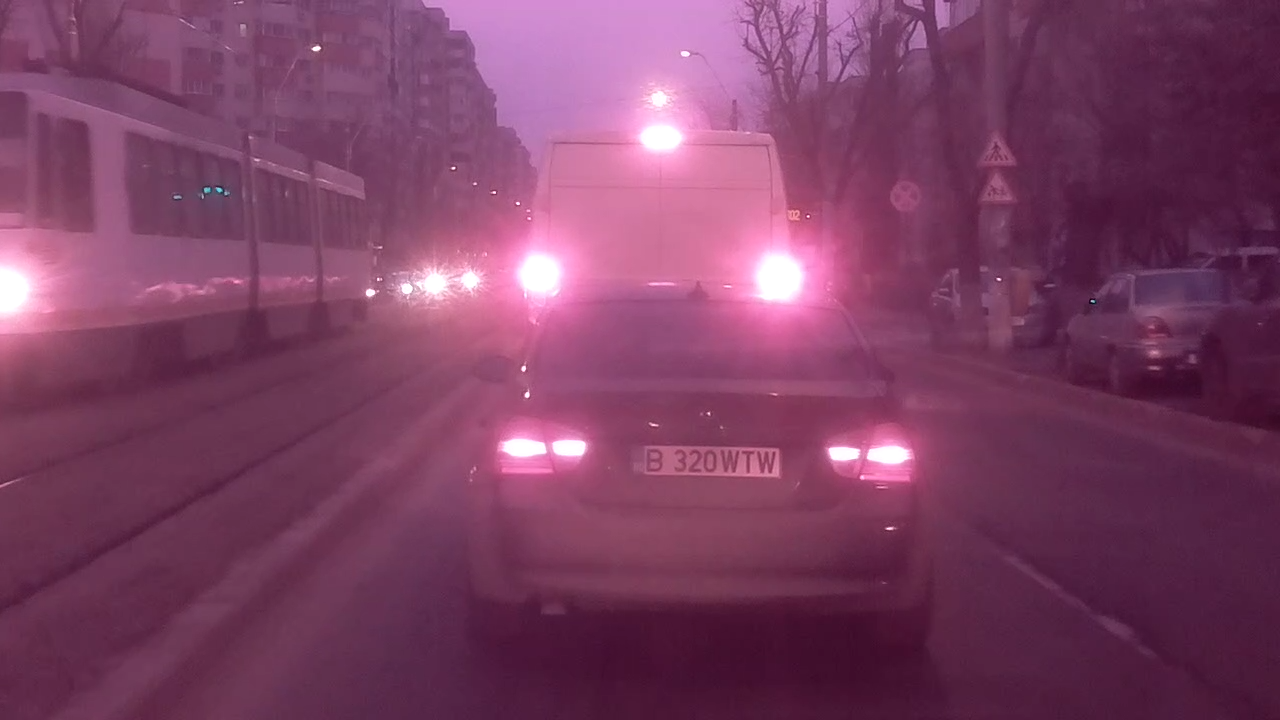license-plate: (624, 439, 786, 483)
